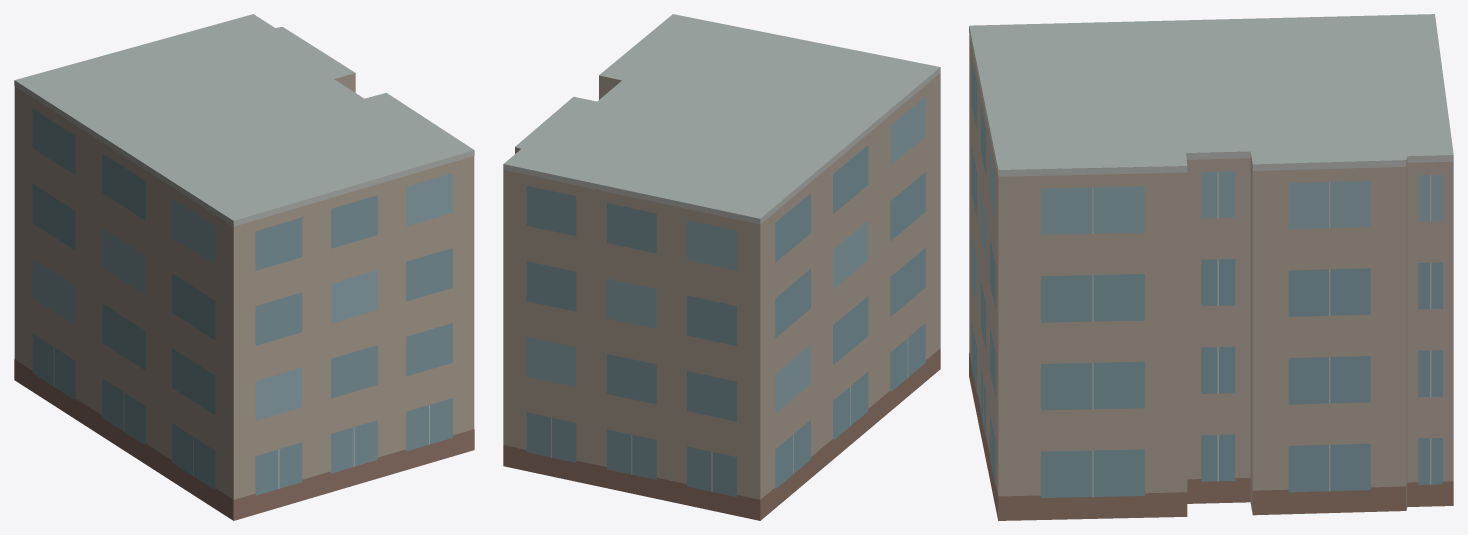
The model's file is survey-upis-32743164.glb.
The picture shows the model from 3 angles, left to right: view 1: azimuth 30°, elevation 25°; view 2: azimuth 150°, elevation 25°; view 3: azimuth 270°, elevation 25°; orthographic projection. The views are drawn at different scales.
Visible parts, largest first — view 1: survey-upis-32743164.tmp; view 2: survey-upis-32743164.tmp; view 3: survey-upis-32743164.tmp.
Boxes of the visible parts, bbox=[...] form: survey-upis-32743164.tmp: bbox=[14, 14, 474, 520]; survey-upis-32743164.tmp: bbox=[503, 14, 940, 520]; survey-upis-32743164.tmp: bbox=[969, 14, 1453, 520].
Size of the model in its own units: 12.22 by 12.8 by 16.04.
